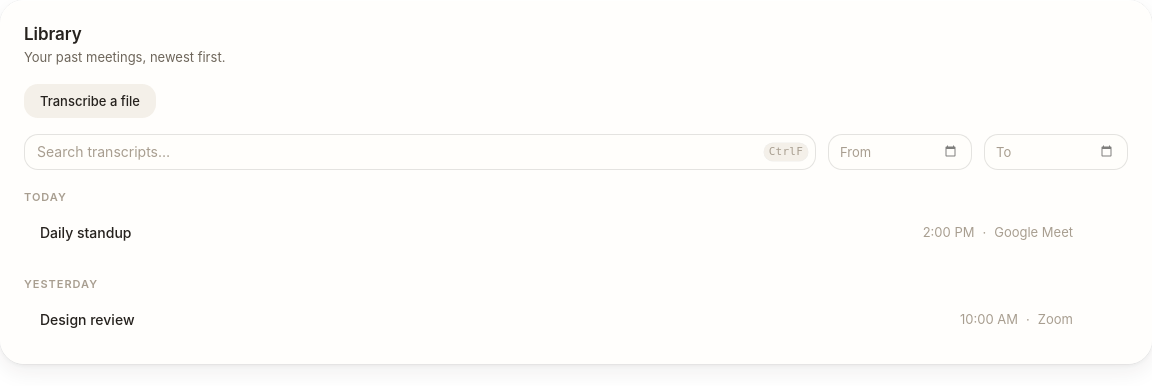
Test: Library › searches via searchMeetings and renders hits with snippets
Check: the element with test id "library-group-today" is shown, box [24,190,1128,252]
Type "roadmap" into the search field with test id "library-search" at (420, 152), box [24,134,816,170]
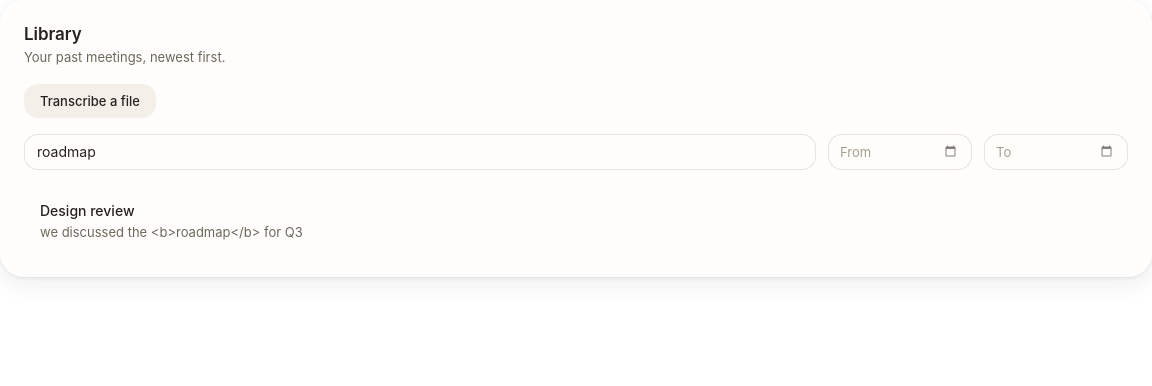
Check: the list with test id "library-search-results" is shown, box [24,190,1128,253]
Check: the element with test id "library-group-today" is gone
